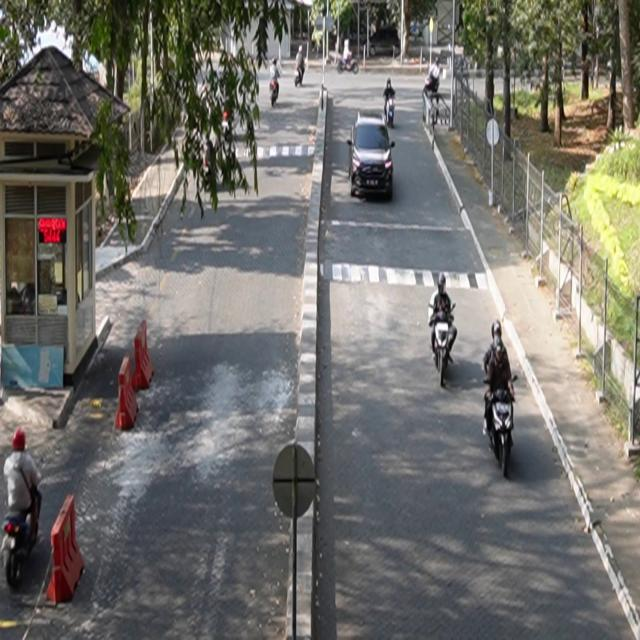car: (348, 111, 396, 201)
